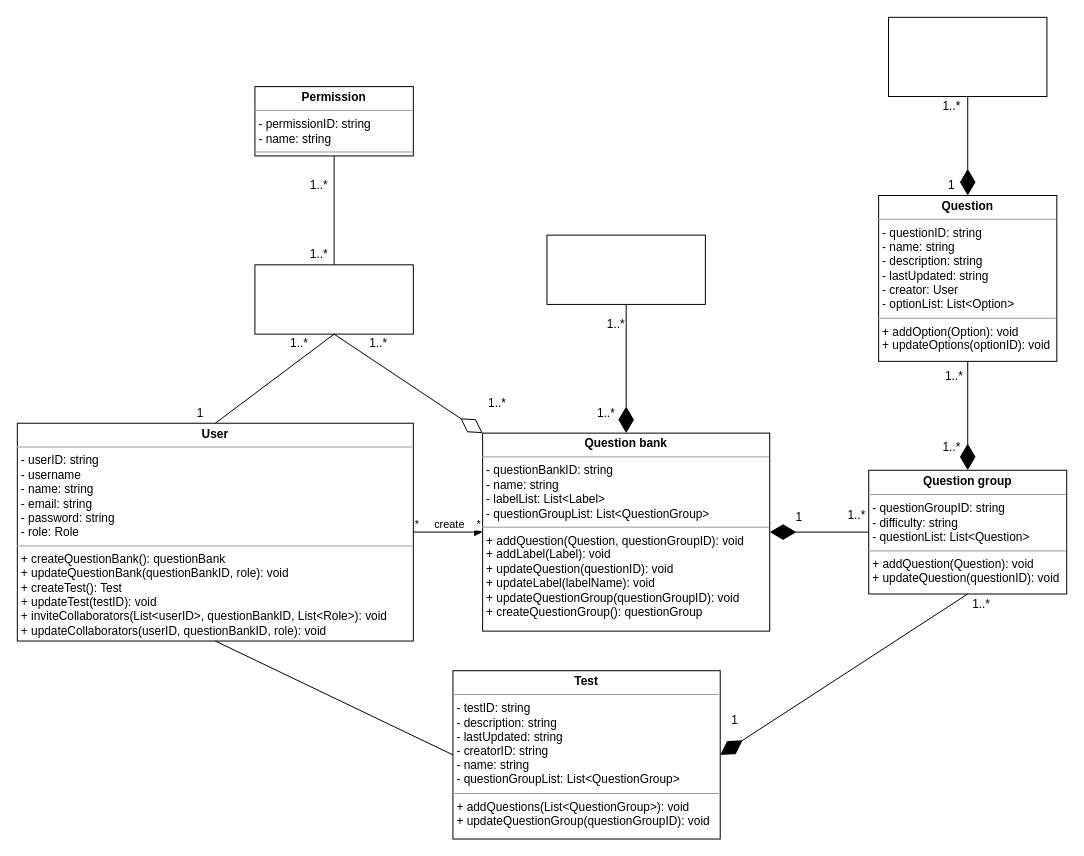
Image size: 1084x856. Some labels were removed from this diagram. Here are the shapes that lost their labels. From the top down, the box of each, then its label:
(888, 16, 1047, 97): Option - optionID: string - description: string - isCorrect: bool
(546, 234, 705, 304): Label - name: string - description: string
(254, 264, 413, 334): Role - roleID: string - name: string
